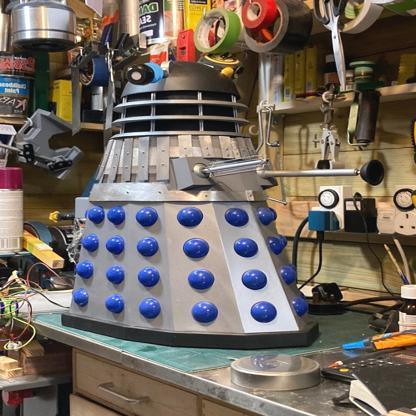dalek: (28, 44, 376, 366)
